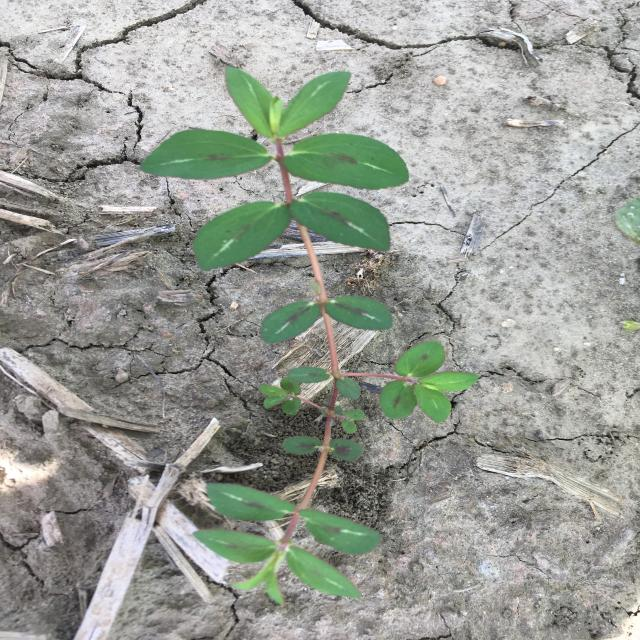SpottedSpurge: (137, 66, 480, 606)
